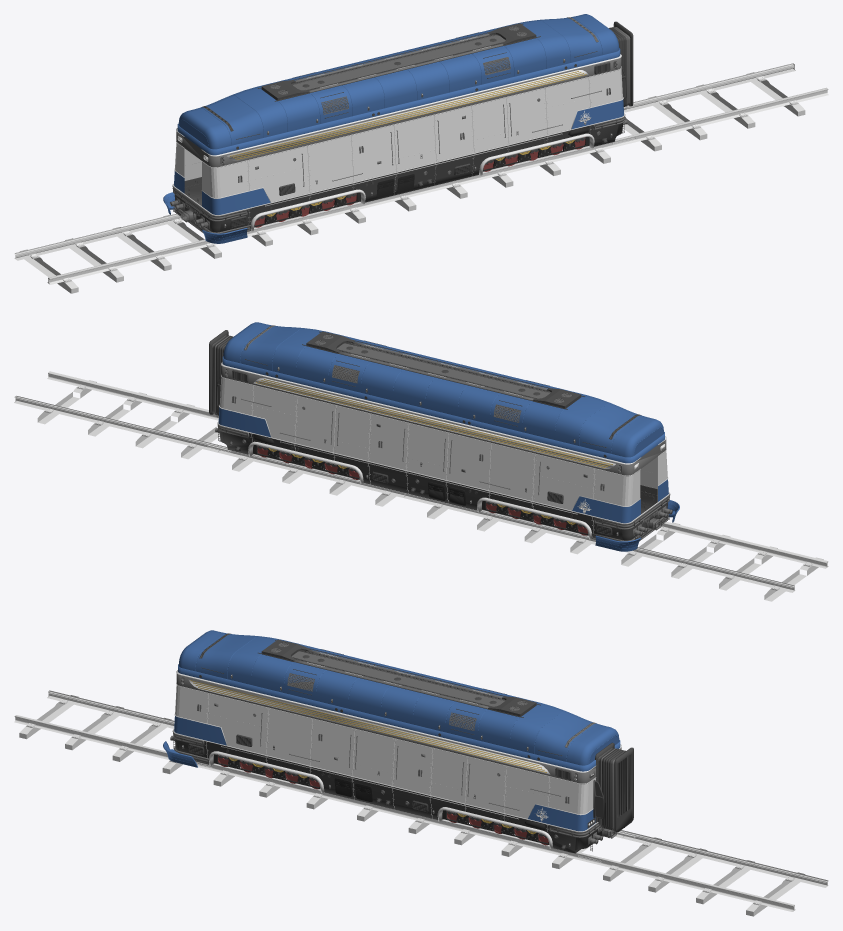
The model's file is wgh-shell.glb.
3 views of the same model, one above another, from view 1: azimuth 30°, elevation 25°; view 2: azimuth 150°, elevation 25°; view 3: azimuth 330°, elevation 25° (orthographic).
Visible parts, largest first — view 1: Cube.042, Cube.048, Cube.081, Cube.033, Cube.024, Cube.083, Cube.049, Cube.028, Cube.035, Cube.050, Cube.004, Cube.089 (+10 smaller); view 2: Cube.042, Cube.048, Cube.081, Cube.033, Cube.024, Cube.083, Cube.049, Cube.028, Cube.035, Cube.050, Cube.004, Cube.089 (+10 smaller); view 3: Cube.042, Cube.048, Cube.033, Cube.081, Cube.024, Cube.083, Cube.049, Cube.035, Cube.028, Cube.050, Cube.004, Cube.089 (+12 smaller).
Part boxes in pixels (bbox=[...]): Cube.042: bbox=[175, 69, 622, 202]; Cube.048: bbox=[178, 14, 619, 149]; Cube.081: bbox=[174, 123, 622, 232]; Cube.033: bbox=[438, 63, 828, 189]; Cube.024: bbox=[14, 184, 439, 284]; Cube.083: bbox=[227, 70, 588, 160]; Cube.049: bbox=[177, 48, 620, 155]; Cube.028: bbox=[19, 198, 416, 293]; Cube.035: bbox=[446, 72, 805, 198]; Cube.050: bbox=[176, 57, 621, 167]; Cube.004: bbox=[174, 99, 623, 214]; Cube.089: bbox=[230, 70, 586, 159]; Cube.042: bbox=[219, 377, 667, 510]; Cube.048: bbox=[223, 322, 664, 457]; Cube.081: bbox=[219, 431, 667, 540]; Cube.033: bbox=[14, 371, 404, 497]; Cube.024: bbox=[403, 493, 828, 592]; Cube.083: bbox=[253, 378, 615, 468]; Cube.049: bbox=[222, 356, 664, 463]; Cube.028: bbox=[427, 506, 823, 601]; Cube.035: bbox=[37, 380, 396, 506]; Cube.050: bbox=[221, 365, 666, 475]; Cube.004: bbox=[218, 407, 668, 523]; Cube.089: bbox=[256, 379, 612, 467]; Cube.042: bbox=[175, 685, 595, 818]; Cube.048: bbox=[178, 630, 619, 765]; Cube.033: bbox=[403, 812, 828, 911]; Cube.081: bbox=[175, 739, 601, 853]; Cube.024: bbox=[14, 690, 404, 816]; Cube.083: bbox=[187, 678, 550, 774]; Cube.049: bbox=[178, 664, 620, 771]; Cube.035: bbox=[408, 821, 805, 916]; Cube.028: bbox=[19, 695, 378, 821]; Cube.050: bbox=[176, 674, 621, 783]; Cube.004: bbox=[174, 716, 595, 831]; Cube.089: bbox=[190, 680, 546, 772].
Bounding box in the file's own units: 254 × 39.92 × 31.69.
